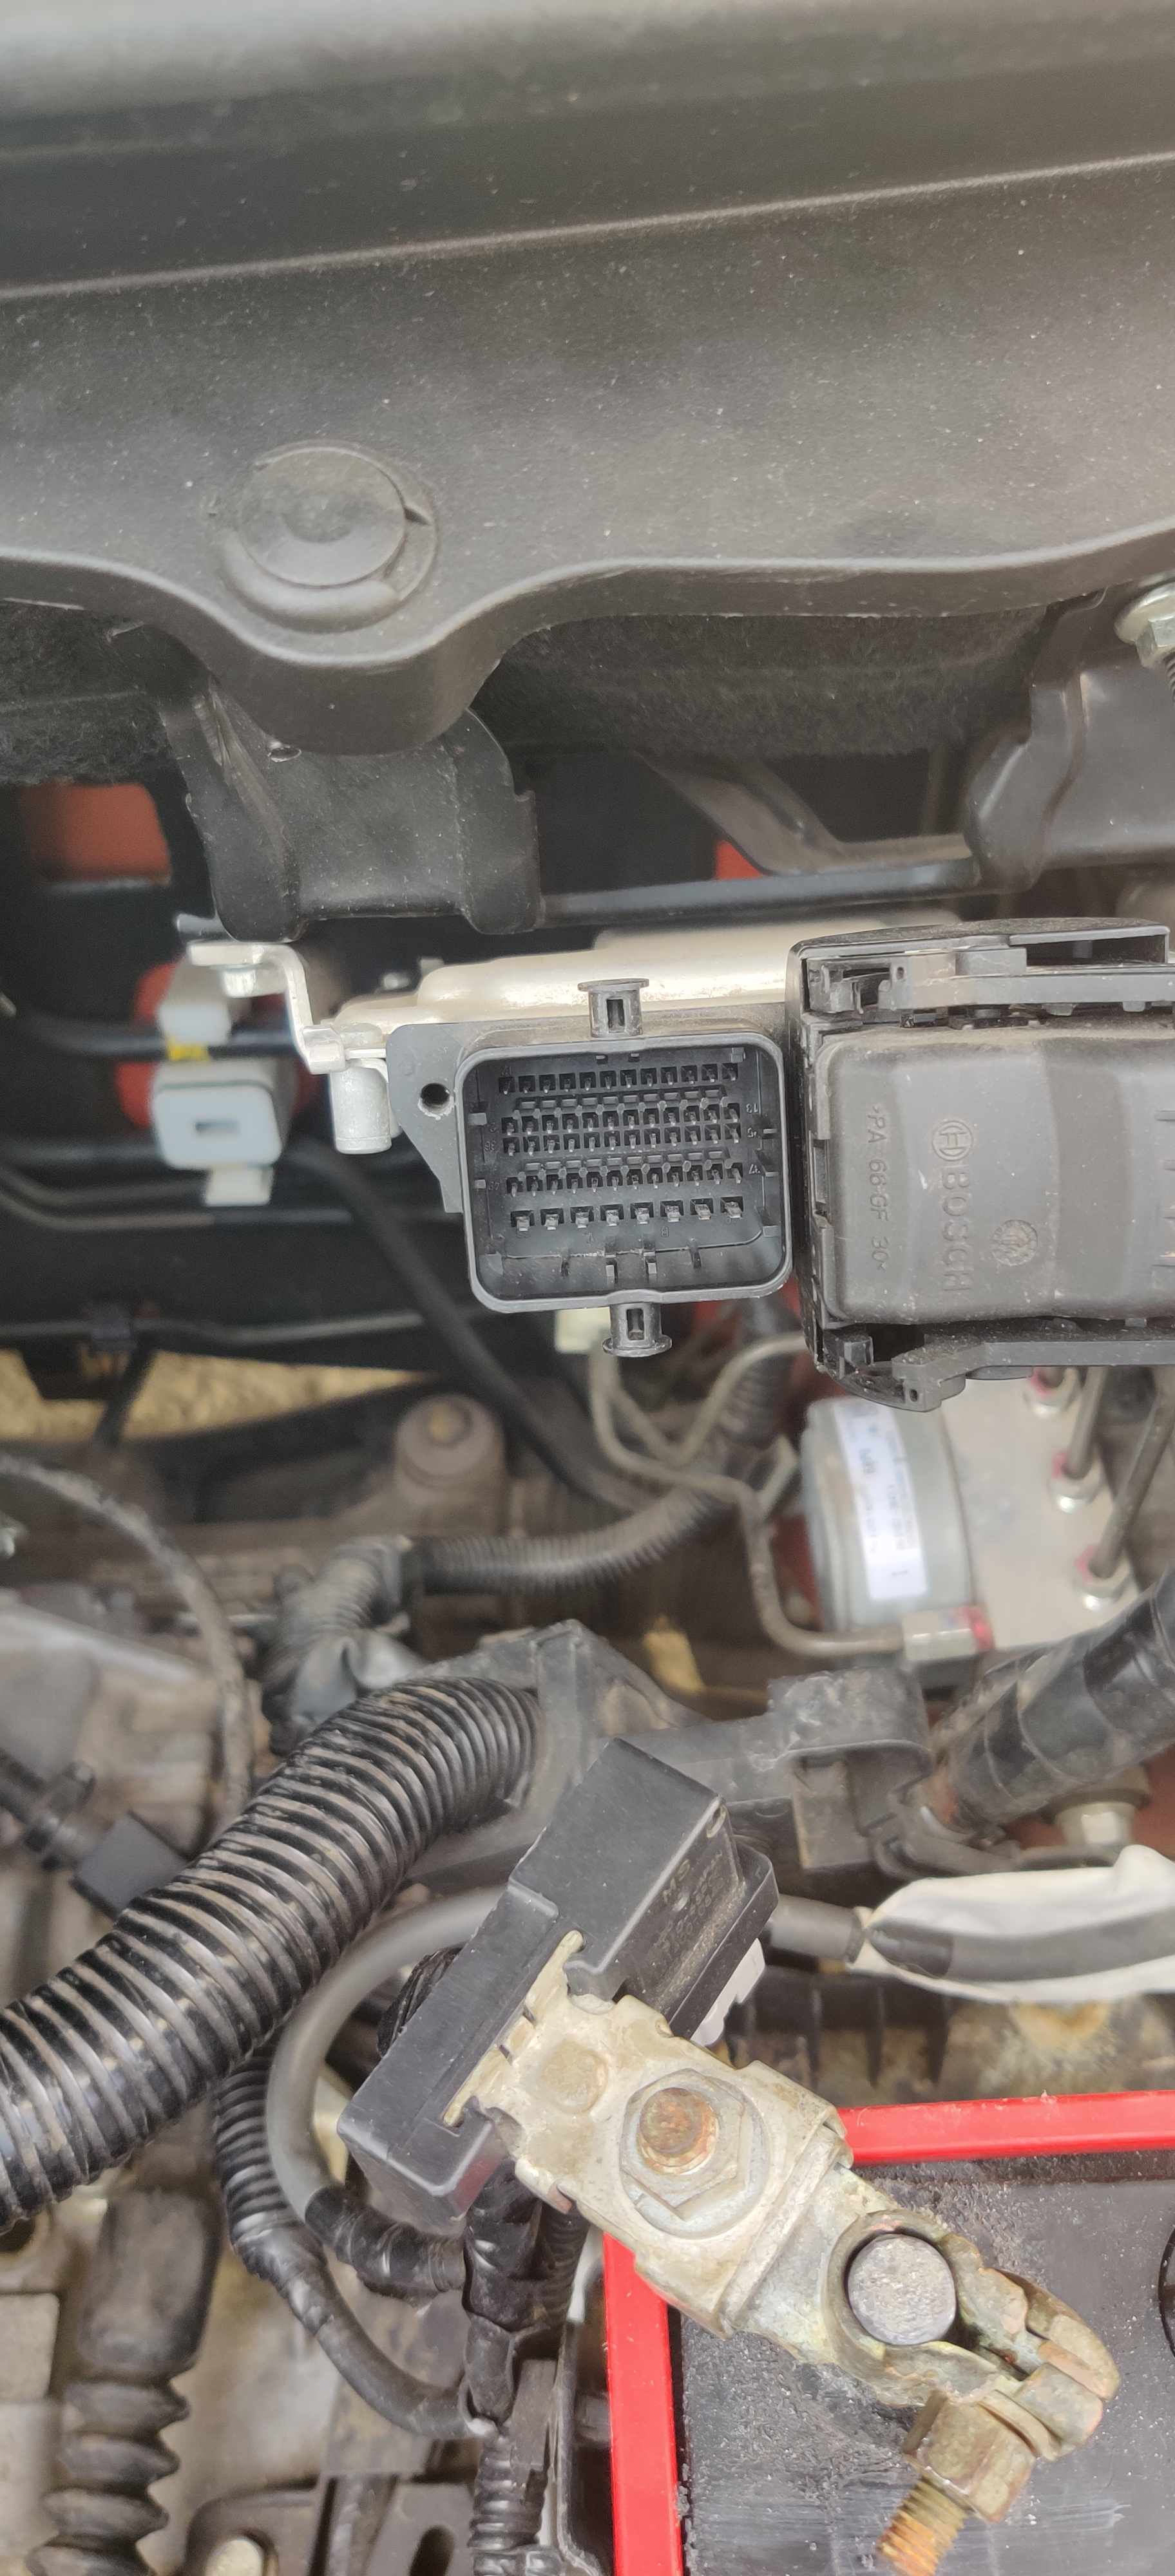connector: (424, 977, 866, 1388)
